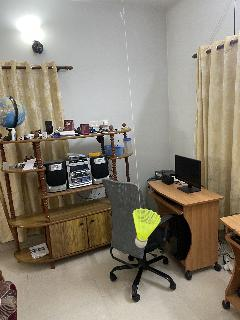shuttlecock: (132, 208, 160, 248)
